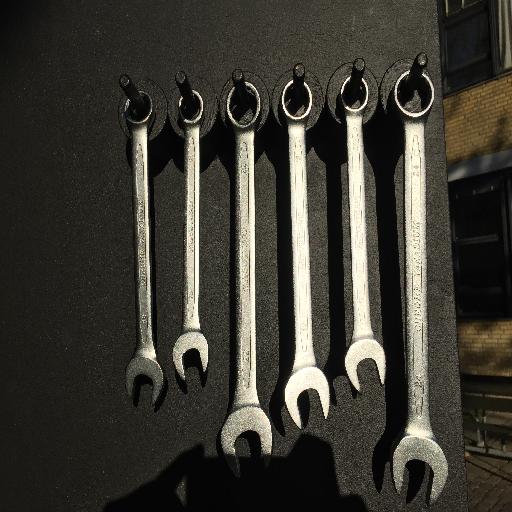bottom: (390, 428, 450, 510), (218, 406, 275, 482), (281, 367, 332, 431), (343, 336, 387, 393), (123, 353, 165, 408), (171, 331, 211, 382)
top: (391, 68, 437, 125), (224, 81, 264, 133), (278, 78, 316, 128), (338, 75, 372, 119), (122, 89, 157, 131), (175, 89, 208, 130)
